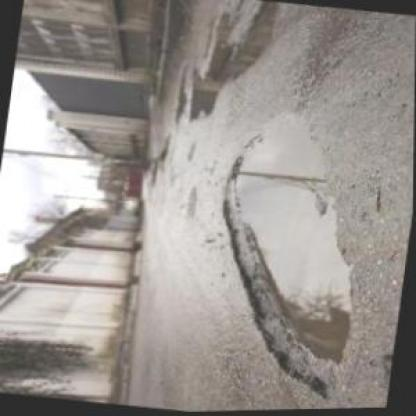pothole: (194, 104, 381, 402)
